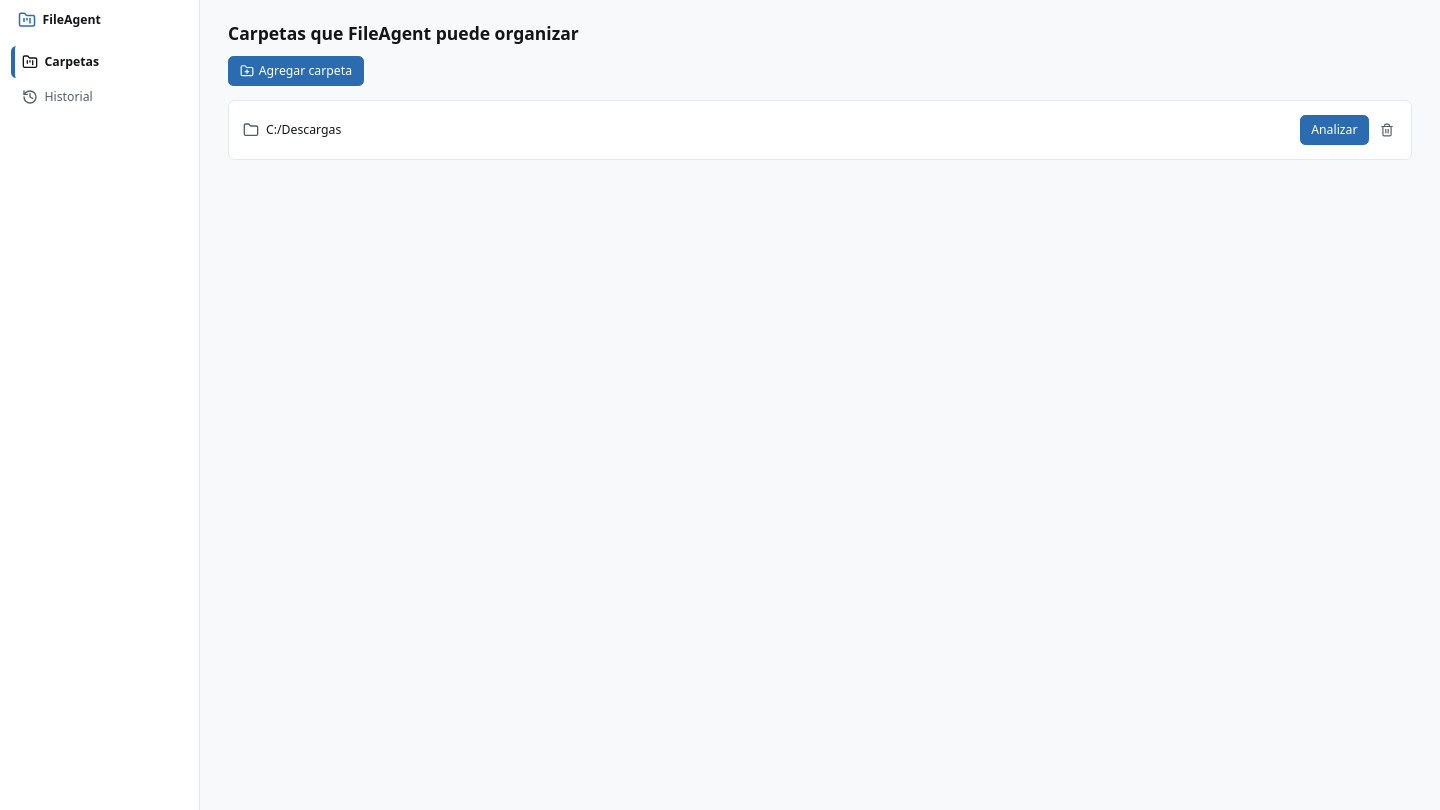
Test case: App -- apply completion inbox lifecycle › 2: completion arriving after navigating away is retained as a notice, without forcing navigation
Click the button "Analizar": [1334, 130] box [1300,115,1369,145]
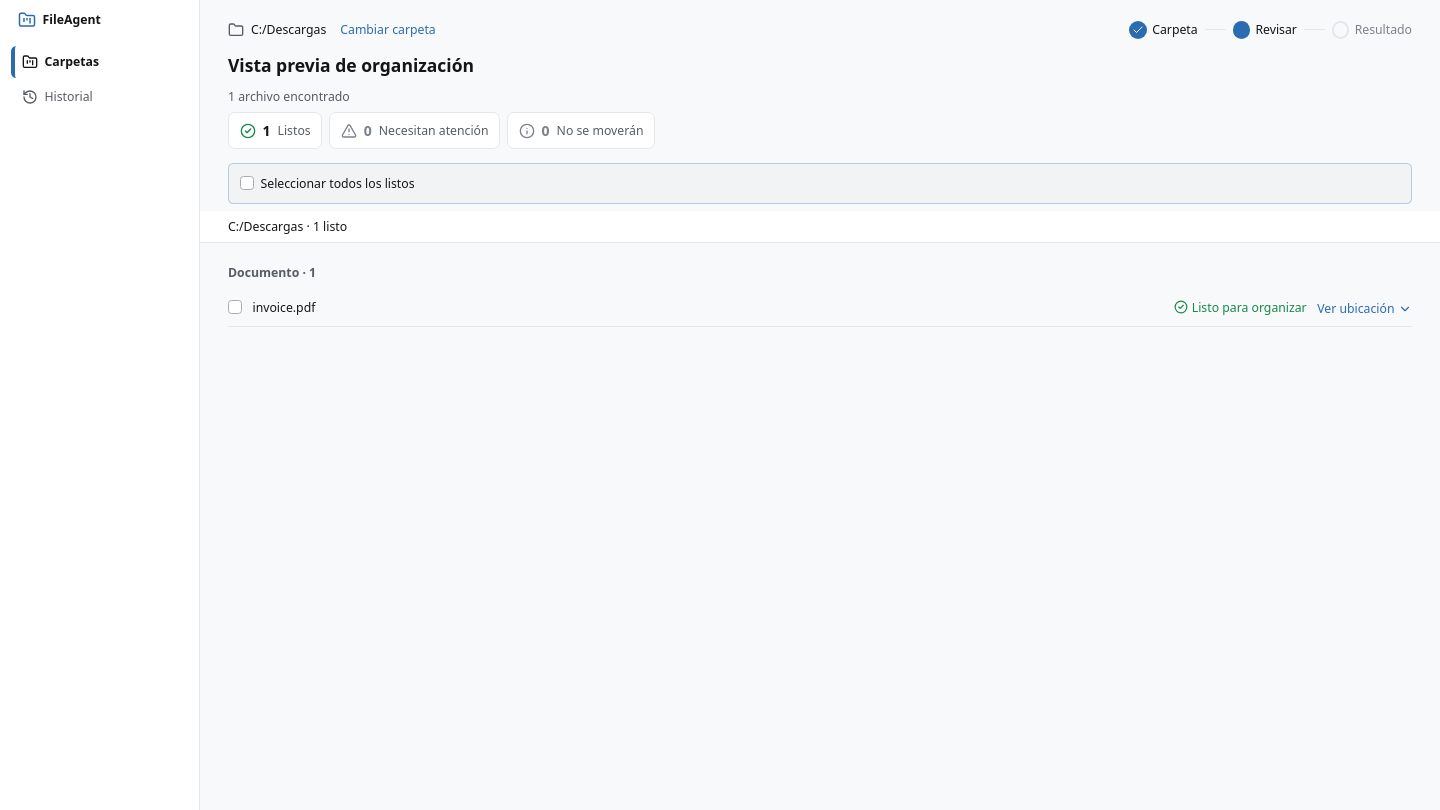
Click the checkbox named "Seleccionar invoice.pdf": [235, 307] box [228,300,242,314]
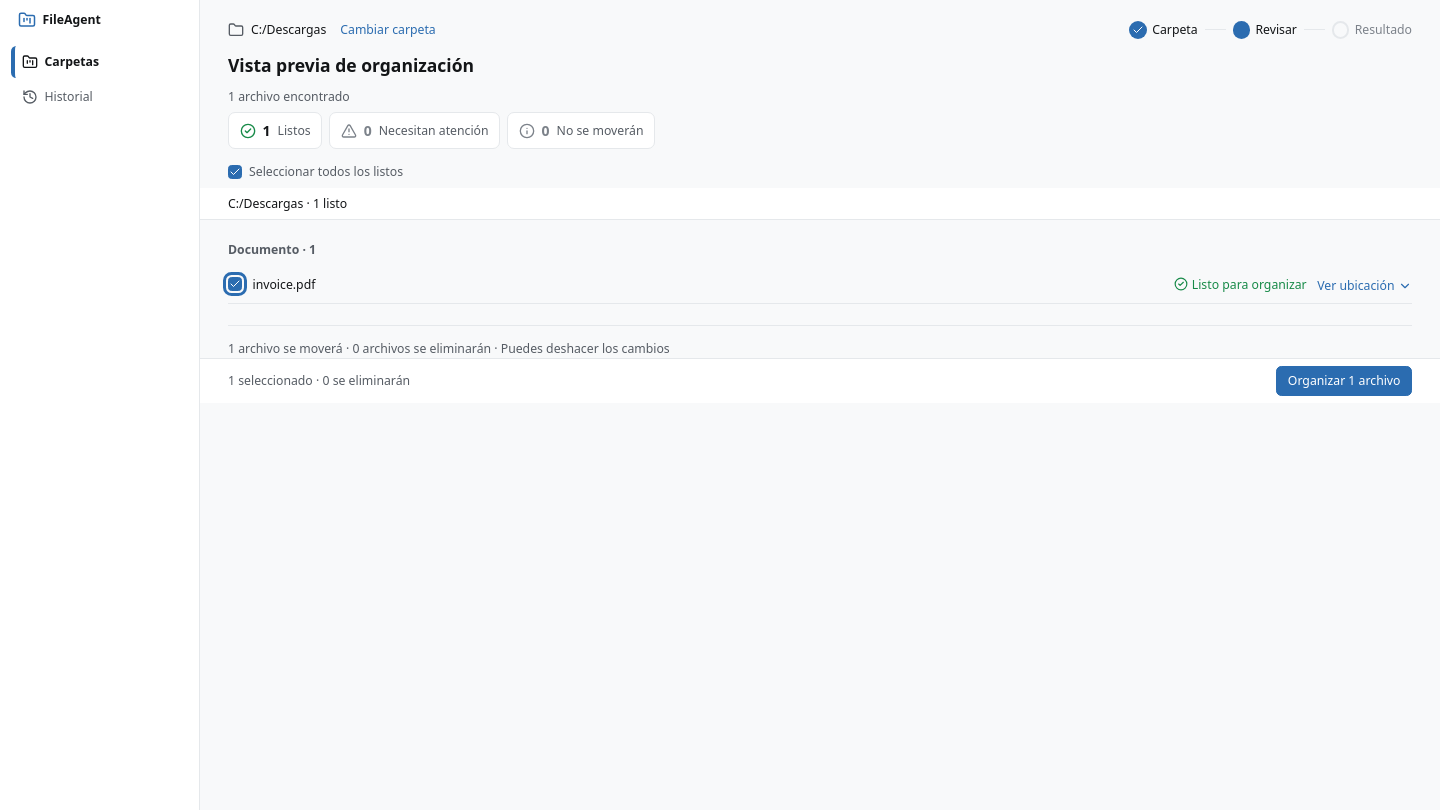
Click the button "Organizar 1 archivo": [1344, 380] box [1276,366,1412,396]
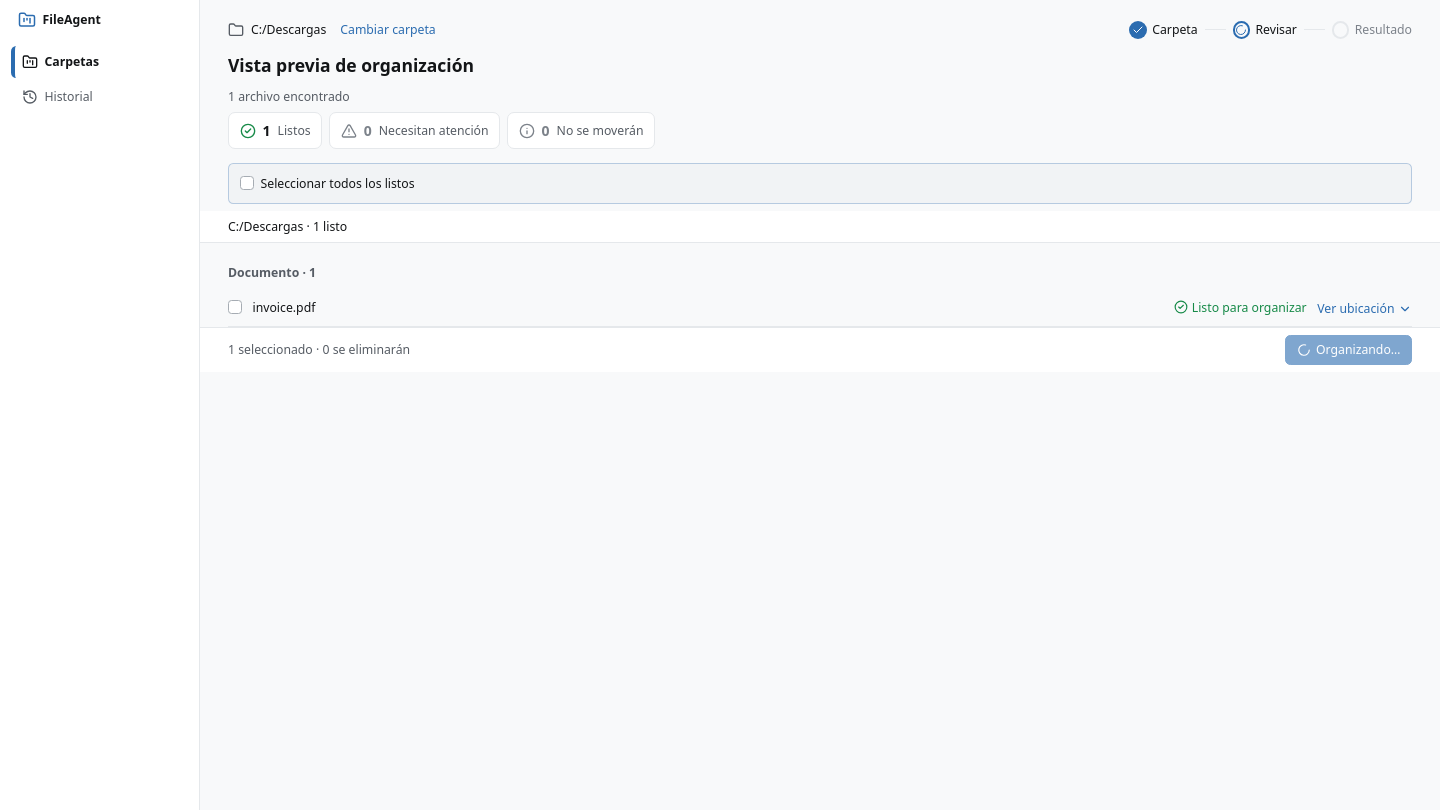
Click the button "Historial": [100, 97] box [10,81,188,112]
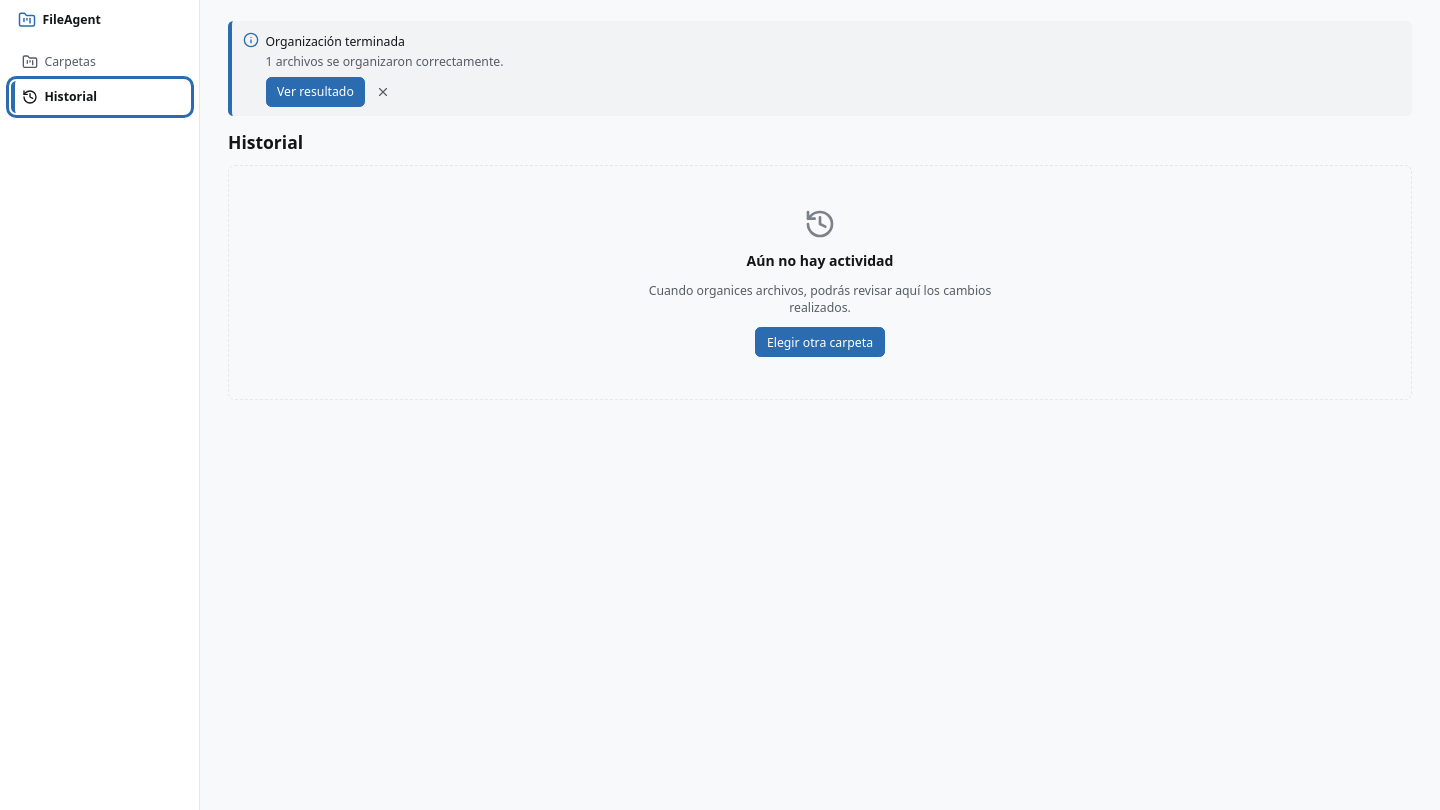
Expected: the element named "Avisos de organización" is shown, [228,21,1412,116]
Expected: the heading "Historial" is shown, [228,130,303,154]
Expected: the button "Ver resultado" is shown, [266,77,365,107]
